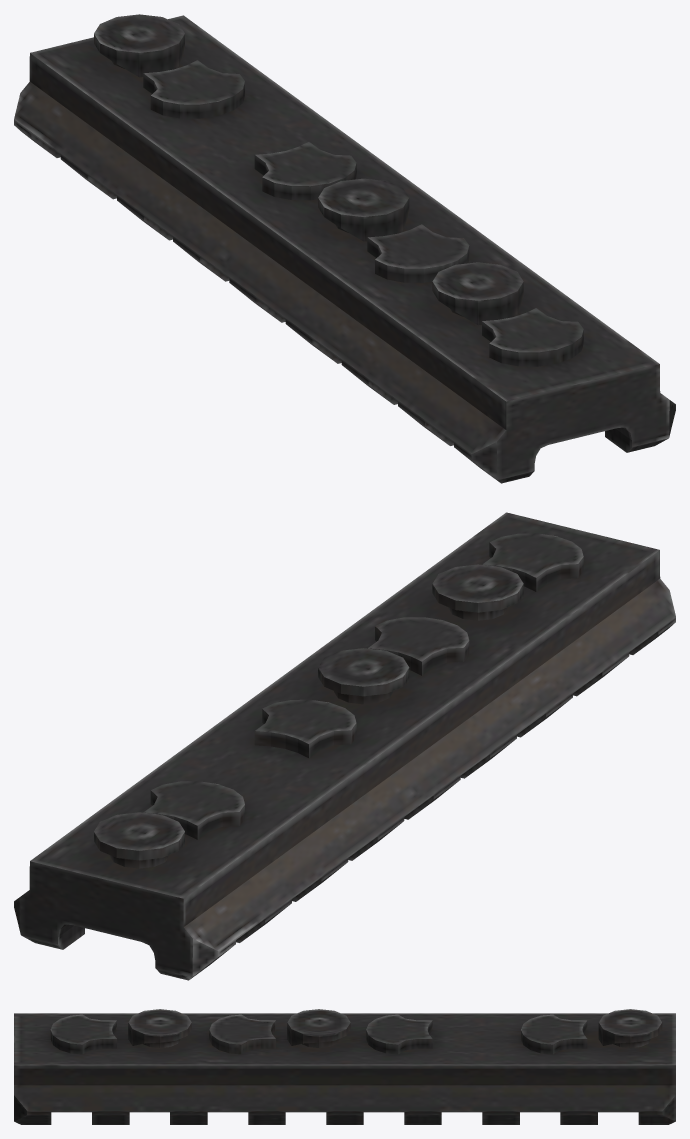
3 views of the same model, one above another, from view 1: azimuth 30°, elevation 25°; view 2: azimuth 150°, elevation 25°; view 3: azimuth 270°, elevation 25° (orthographic). The views are drawn at different scales.
Visible parts, largest first — view 1: TW_5a9d6d00a2750c5c985b5305_PZ_Import; view 2: TW_5a9d6d00a2750c5c985b5305_PZ_Import; view 3: TW_5a9d6d00a2750c5c985b5305_PZ_Import.
Part boxes in pixels (left/top/right/bottom): TW_5a9d6d00a2750c5c985b5305_PZ_Import: left=14, top=14, right=675, bottom=483; TW_5a9d6d00a2750c5c985b5305_PZ_Import: left=14, top=512, right=675, bottom=980; TW_5a9d6d00a2750c5c985b5305_PZ_Import: left=14, top=1009, right=675, bottom=1124.
Bounding box in the file's own units: 0.0121 × 0.049 × 0.00625.
Materials: 1 (1 with a texture image).
